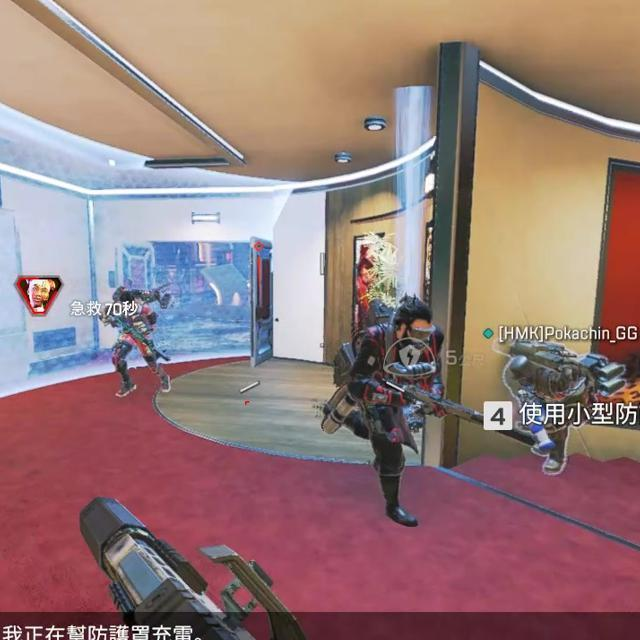avatar: (319, 295, 445, 530), (103, 287, 172, 396)
